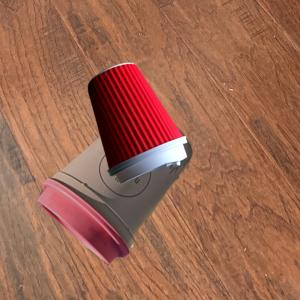cup: (89, 61, 191, 184)
